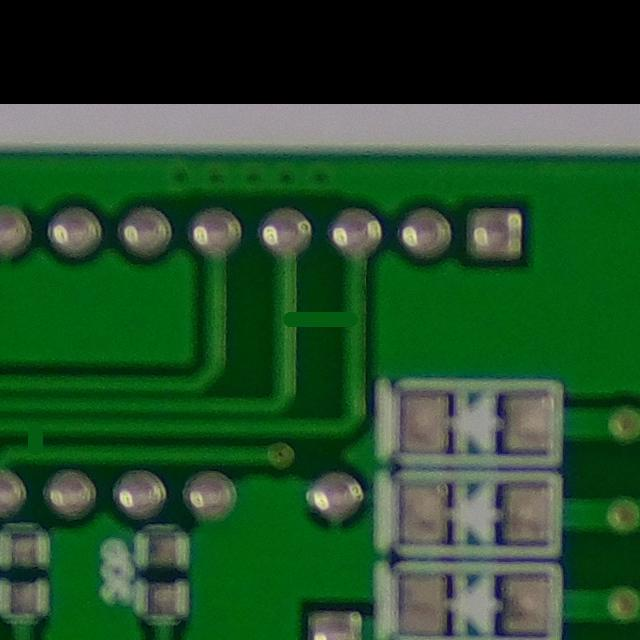short: (265, 285, 375, 355)
